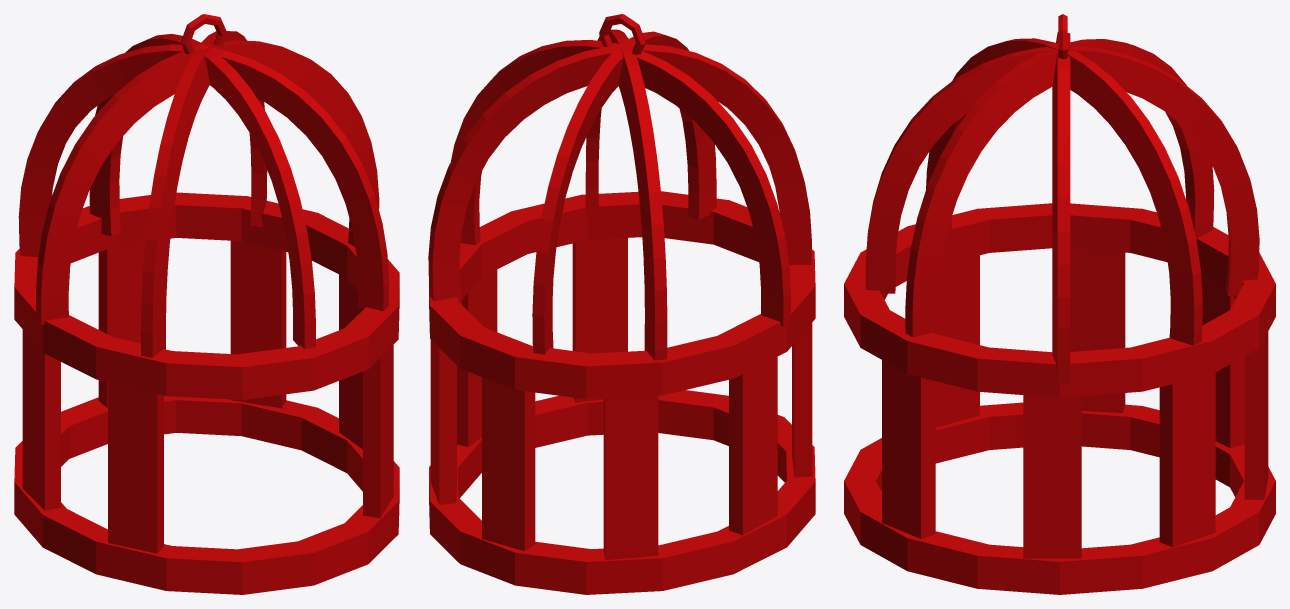
File: cartoon_cage.fbx
3 views of the same model, side by side, from view 1: azimuth 30°, elevation 25°; view 2: azimuth 150°, elevation 25°; view 3: azimuth 270°, elevation 25° (orthographic).
Visible parts, largest first — view 1: Cage; view 2: Cage; view 3: Cage.
Part boxes in pixels (left/top/right/bottom): Cage: left=14, top=14, right=399, bottom=594; Cage: left=428, top=14, right=815, bottom=594; Cage: left=844, top=14, right=1275, bottom=594.
Size of the model in its own units: 1.93 by 2.69 by 2.11.
